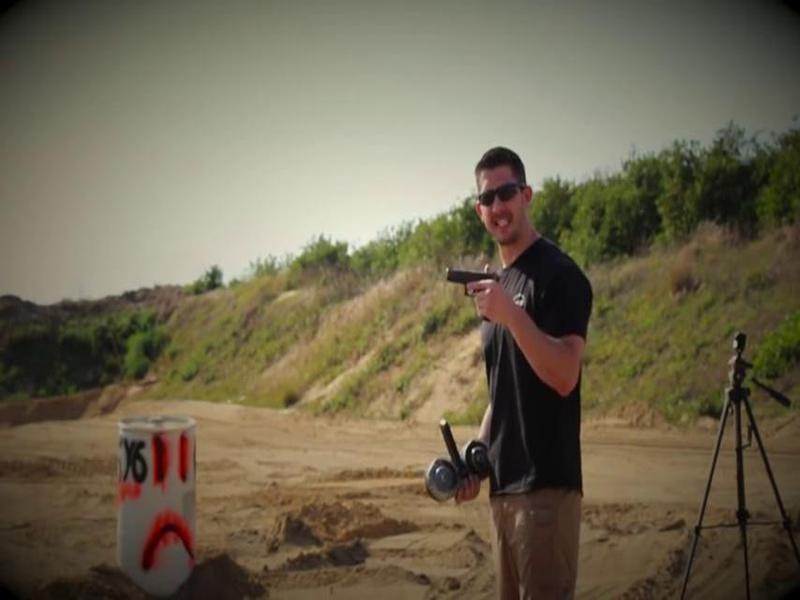Pistola: (443, 264, 516, 328)
